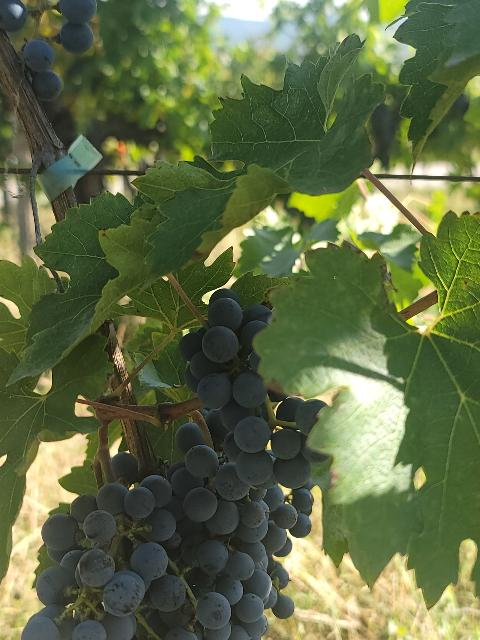grapes: (21, 460, 218, 640), (179, 289, 328, 490), (140, 424, 274, 632)
